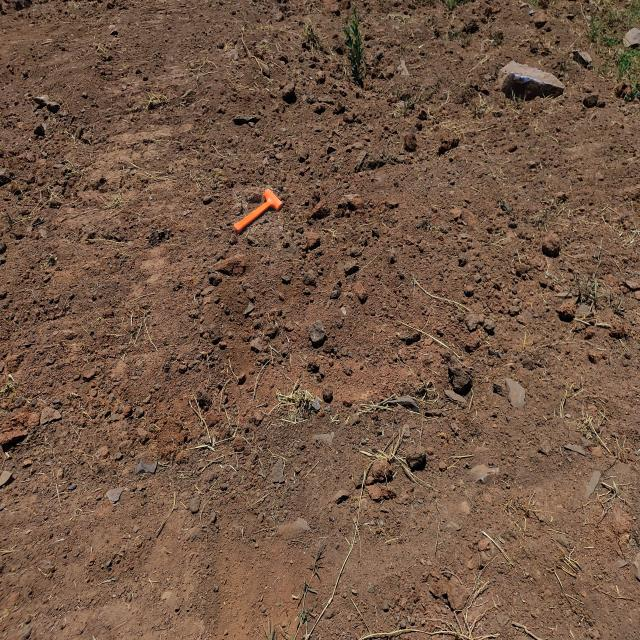Orange_hammer: (233, 188, 283, 234)
